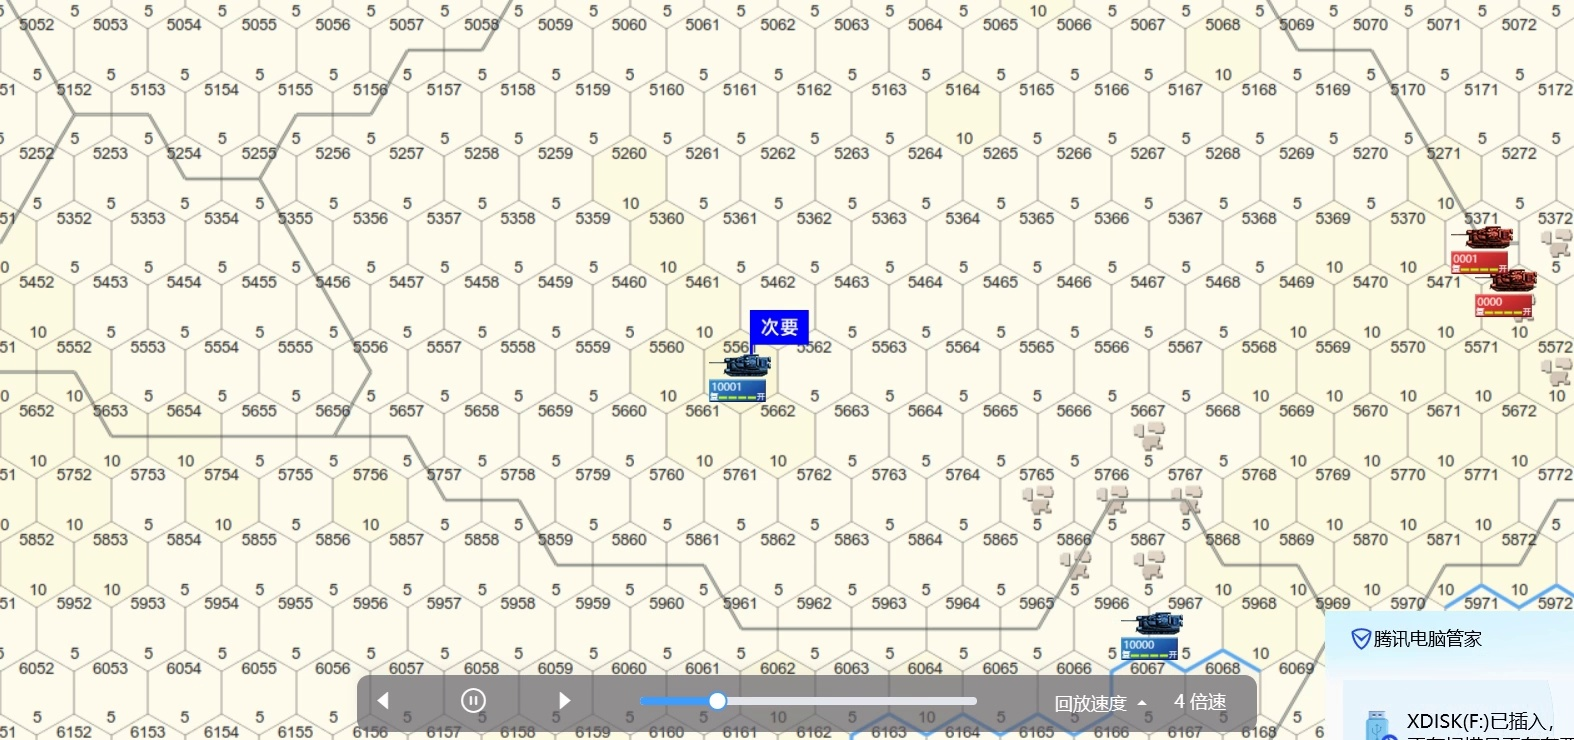blue_tank: (712, 356, 774, 400), (1127, 610, 1183, 659)
red_tank: (1454, 222, 1516, 268), (1478, 272, 1536, 314)
